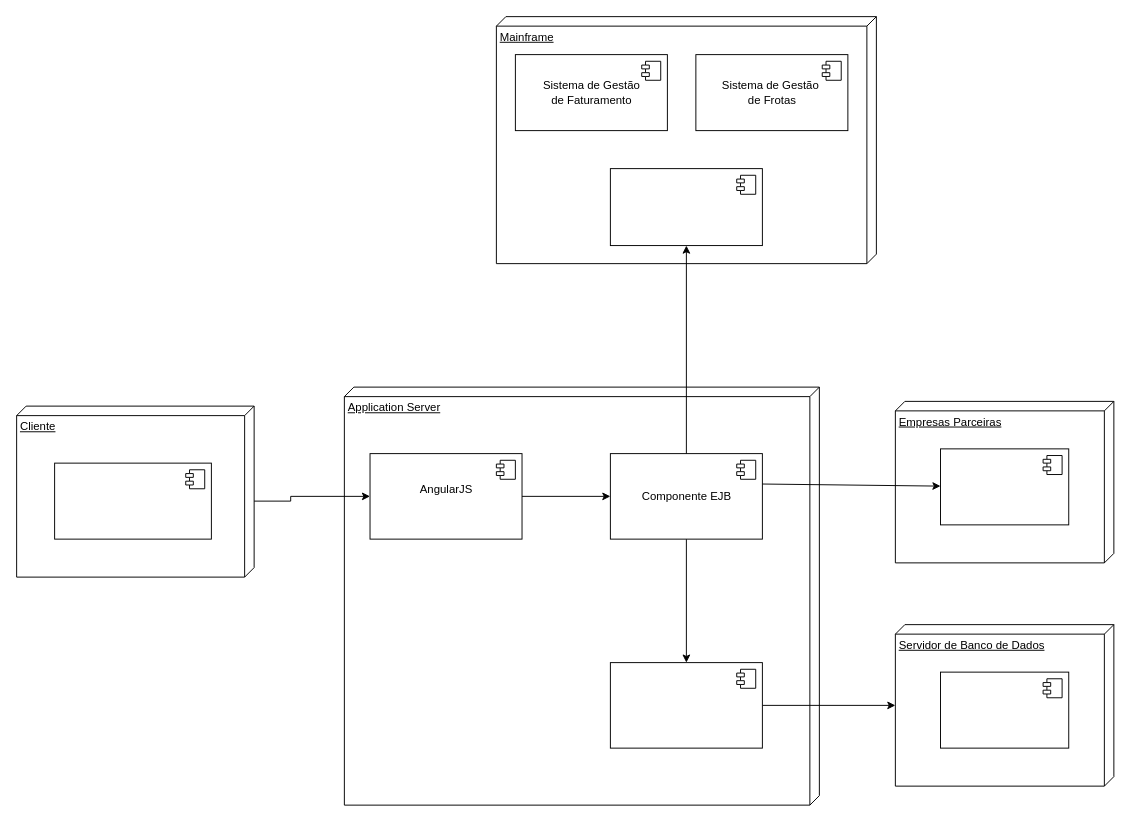
This 1131x822 diagram has some shape labels left out. The shapes that lost their labels are listed below. From the top down, each one's centre as x and y in pixels, then its label:
the point at 685,207: WebCICS
the point at 132,500: Browser
the point at 1004,486: WebService
the point at 685,705: Persistência
the point at 1004,709: PostgreSql
